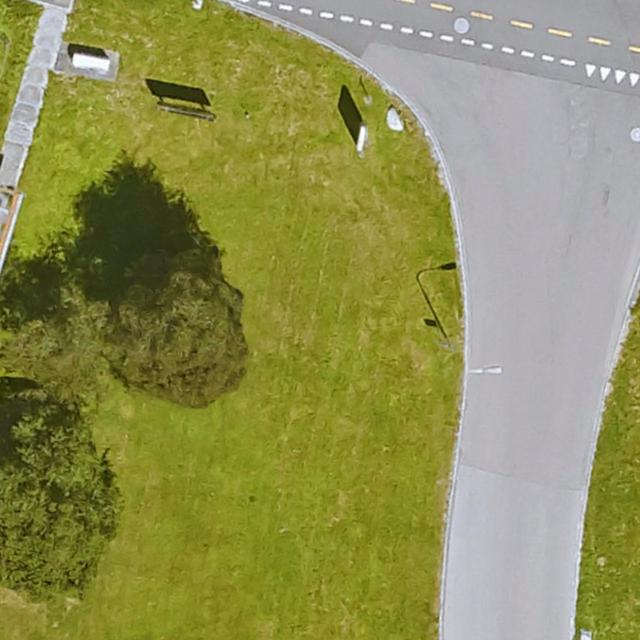tree: (0, 408, 119, 597), (114, 276, 247, 404), (0, 303, 110, 399)
